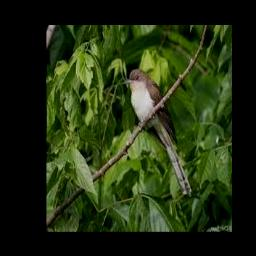Cuckoo: (123, 69, 193, 195)
